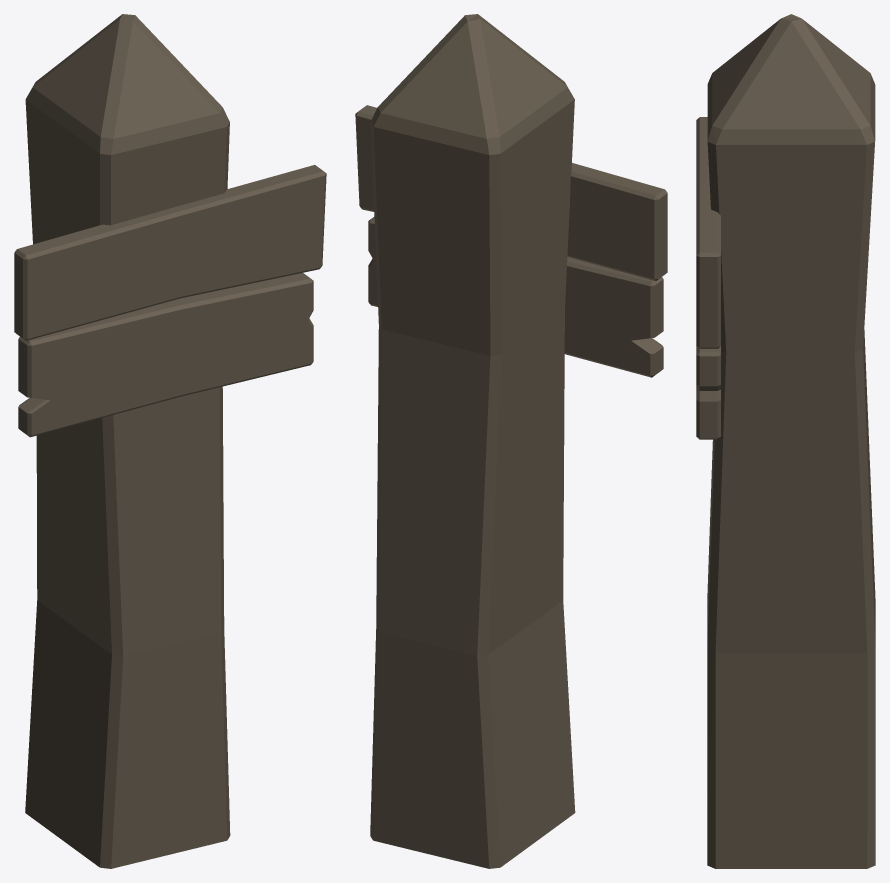
The model's file is Signpost_03.glb.
3 views of the same model, side by side, from view 1: azimuth 30°, elevation 25°; view 2: azimuth 150°, elevation 25°; view 3: azimuth 270°, elevation 25° (orthographic).
Visible parts, largest first — view 1: Signpost_03; view 2: Signpost_03; view 3: Signpost_03.
Part boxes in pixels (x1,y1,x2,y2): Signpost_03: (14,14,326,868); Signpost_03: (355,14,667,868); Signpost_03: (696,14,875,868).
Size of the model in its own units: 0.4268 by 1.08 by 0.2152.
Materials: 1 (1 with a texture image).
